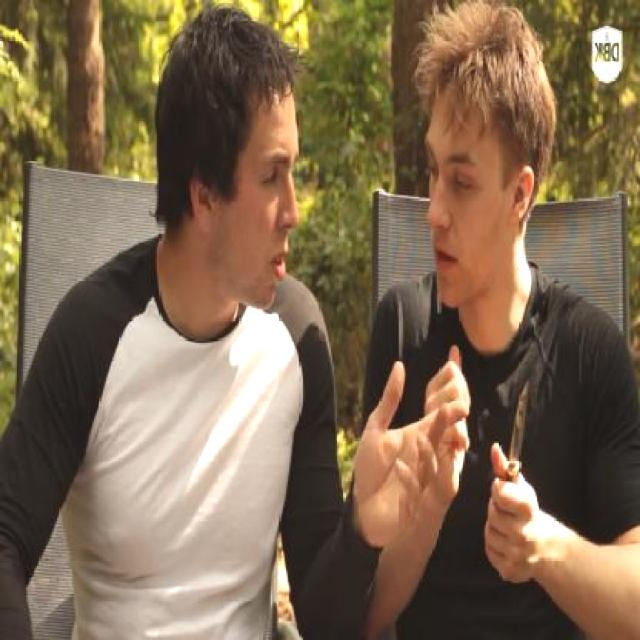knife: (480, 358, 540, 538)
